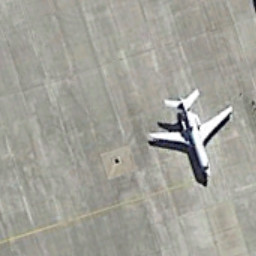Airplane: (142, 81, 238, 195)
